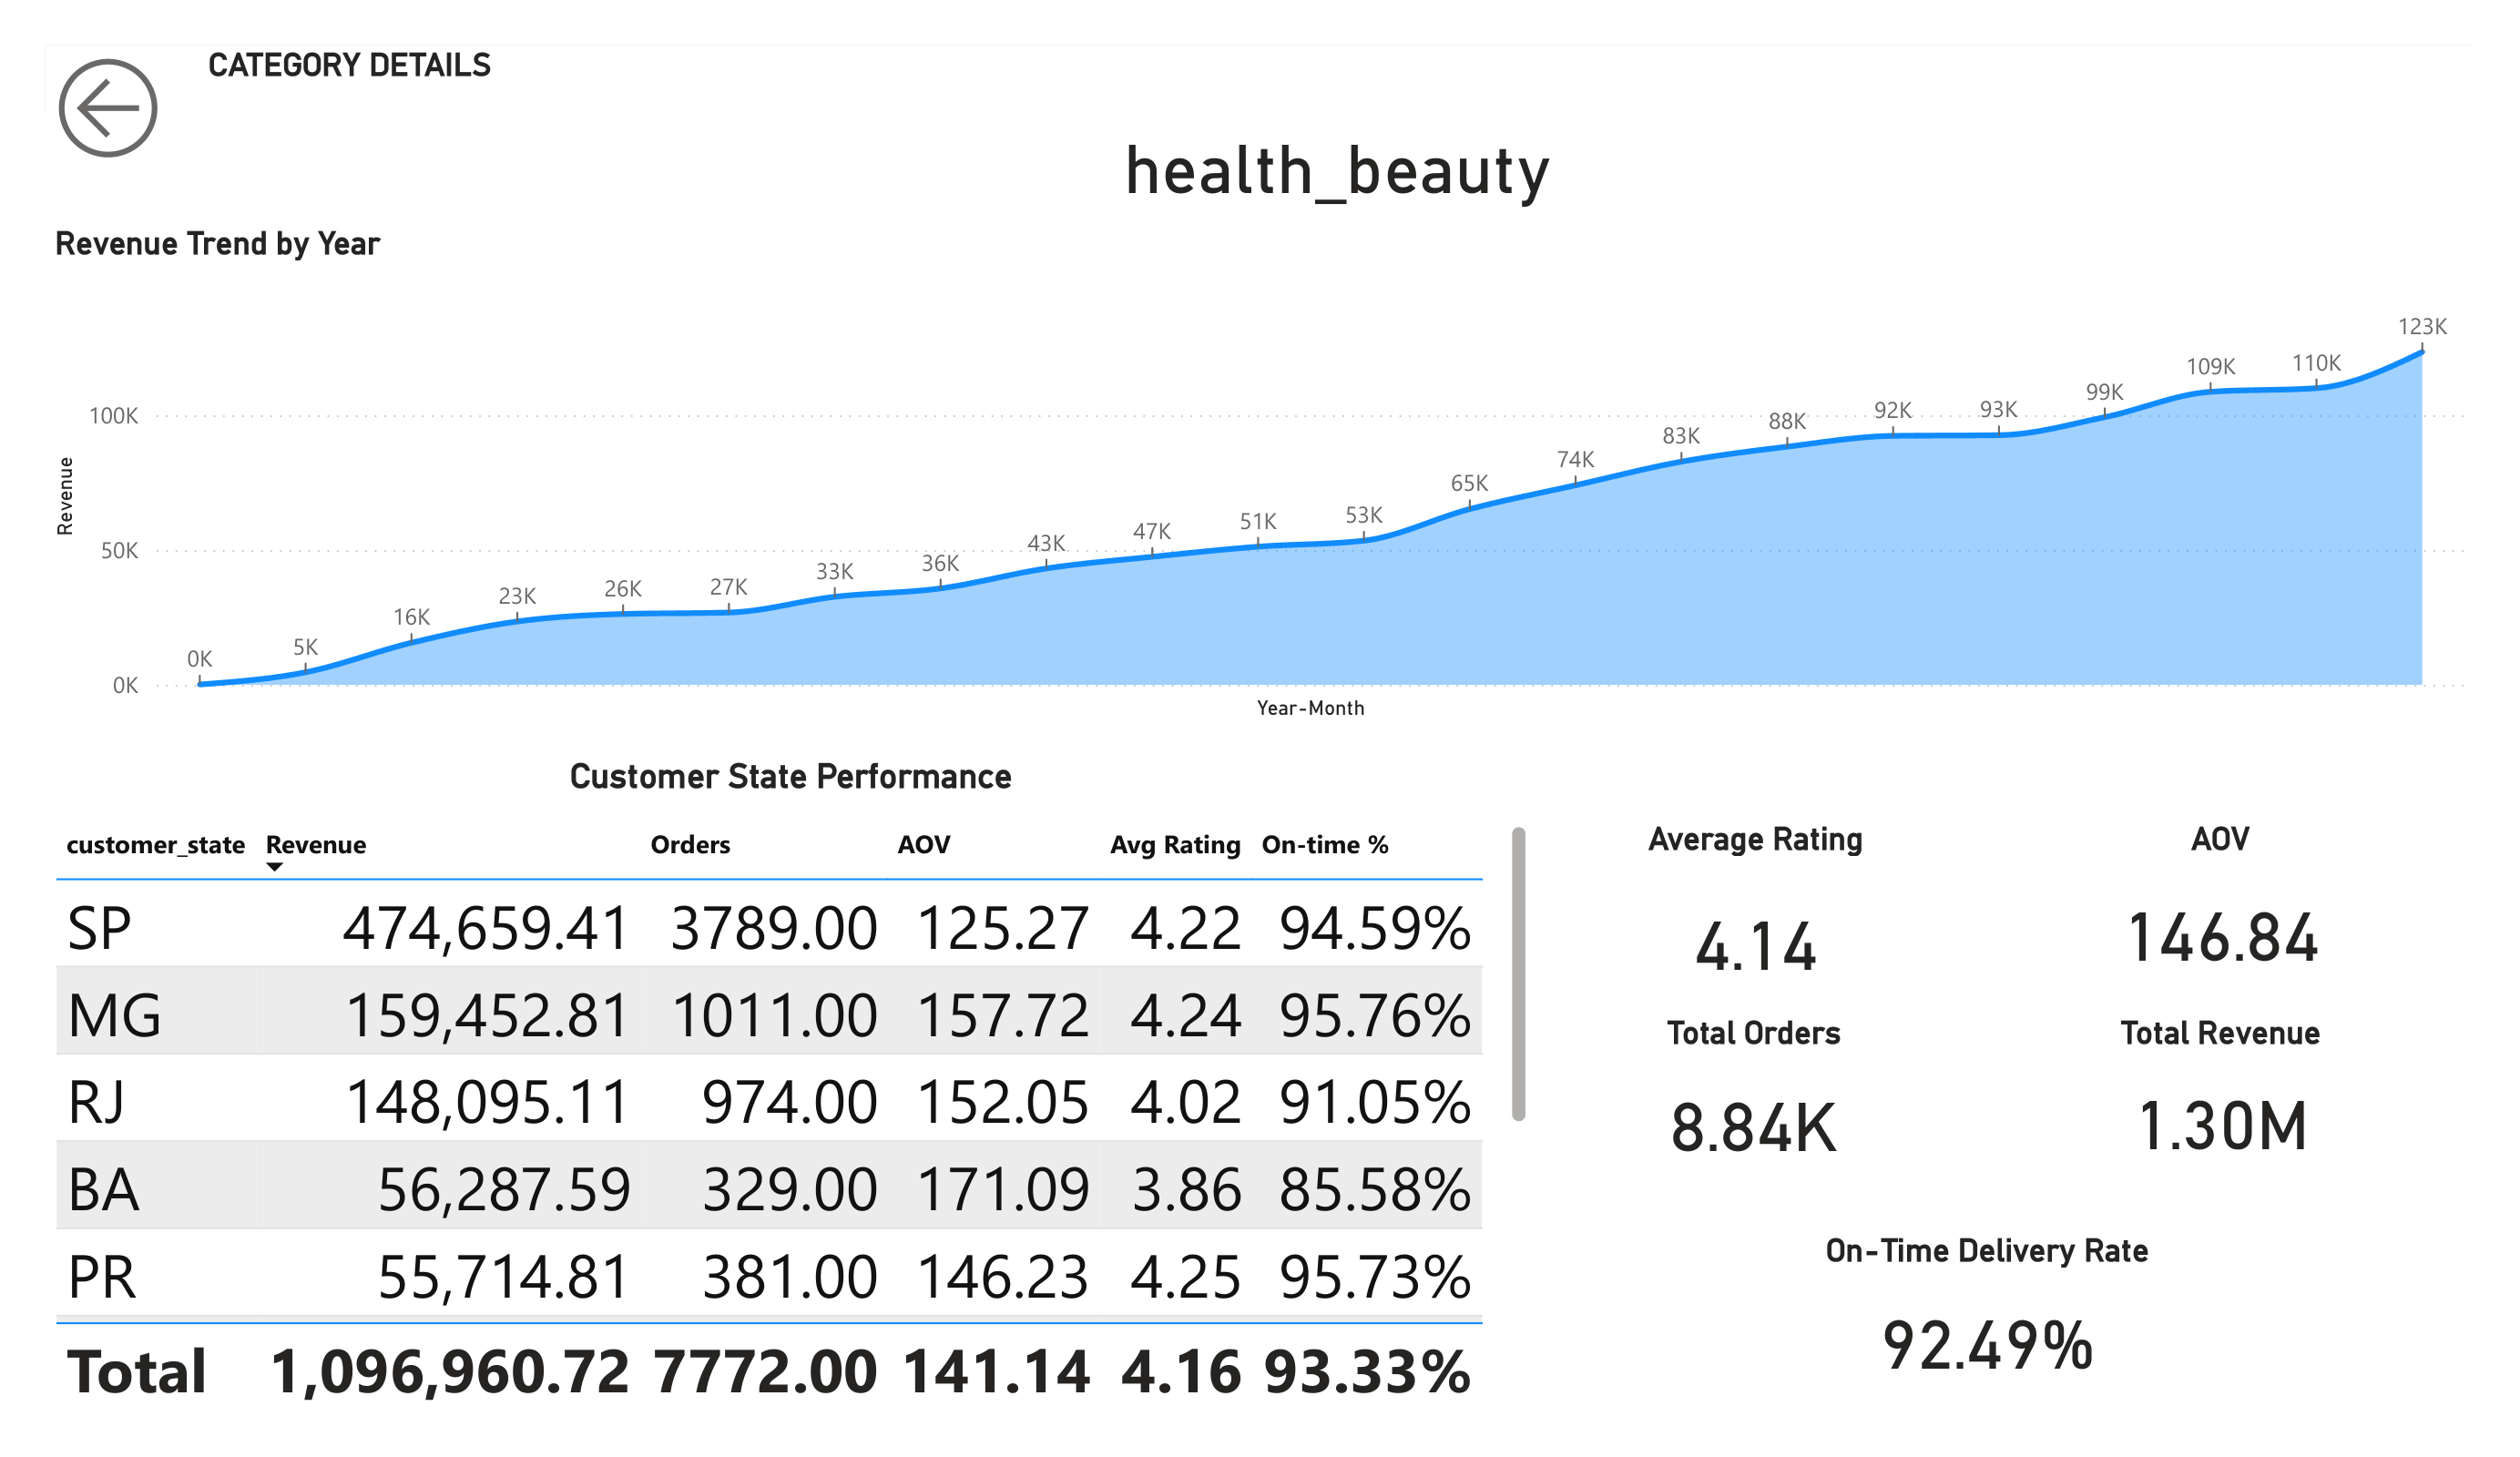

What the dashboard file says about the page in this screenshot:
{"tool":"powerbi","page":{"name":"Drillthrough","canvas":[1280,720],"ordinal":8},"visuals":[{"type":"actionButton","box":[0,0,69.3,66.4],"z":0},{"type":"card","title":"        CATEGORY DETAILS","fields":{"Values":["public bi_fact_sales.Drill Title"]},"box":[81.2,0,1200,93.8],"z":1000},{"type":"card","title":"Total Revenue","fields":{"Values":["public bi_fact_sales.Revenue"]},"box":[1013.8,510,265.5,82.2],"z":2000},{"type":"card","title":"Total Orders","fields":{"Values":["public bi_fact_sales.Orders"]},"box":[786.2,510,228.8,82.5],"z":3000},{"type":"card","title":"AOV","fields":{"Values":["public bi_fact_sales.AOV"]},"box":[1013.8,407.5,265,87.5],"z":4000},{"type":"card","title":"On-Time Delivery Rate","fields":{"Values":["public bi_fact_sales.On-time %"]},"box":[891.2,625,265,82.5],"z":5000},{"type":"card","title":"Average Rating","fields":{"Values":["public bi_fact_sales.Avg Rating"]},"box":[787.5,407.5,227.5,96.2],"z":6000},{"type":"lineChart","title":"        Revenue Trend by Year","fields":{"Category":["DimDate.Year-Month"],"Y":["public bi_fact_sales.Revenue"]},"box":[0,93.8,1280,266.2],"z":7000},{"type":"tableEx","title":"Customer State Performance","fields":{"Values":["public bi_fact_sales.customer_state","public bi_fact_sales.Revenue","public bi_fact_sales.Orders","public bi_fact_sales.AOV","public bi_fact_sales.Avg Rating","public bi_fact_sales.On-time %"]},"box":[0,373.8,786.2,350],"z":8000}]}

Visuals, with their boxes on the page's 1280x720 design canvas (x1, y1, x2, y2). These are canvas units, not pixel positions in the 2520x1457 screenshot, which may show the page scaled, cropped or inside an application window:
actionButton: 0:0:69:66
"        CATEGORY DETAILS" card: 81:0:1281:94
"Total Revenue" card: 1014:510:1279:592
"Total Orders" card: 786:510:1015:592
"AOV" card: 1014:408:1279:495
"On-Time Delivery Rate" card: 891:625:1156:708
"Average Rating" card: 788:408:1015:504
"        Revenue Trend by Year" lineChart: 0:94:1280:360
"Customer State Performance" tableEx: 0:374:786:724
